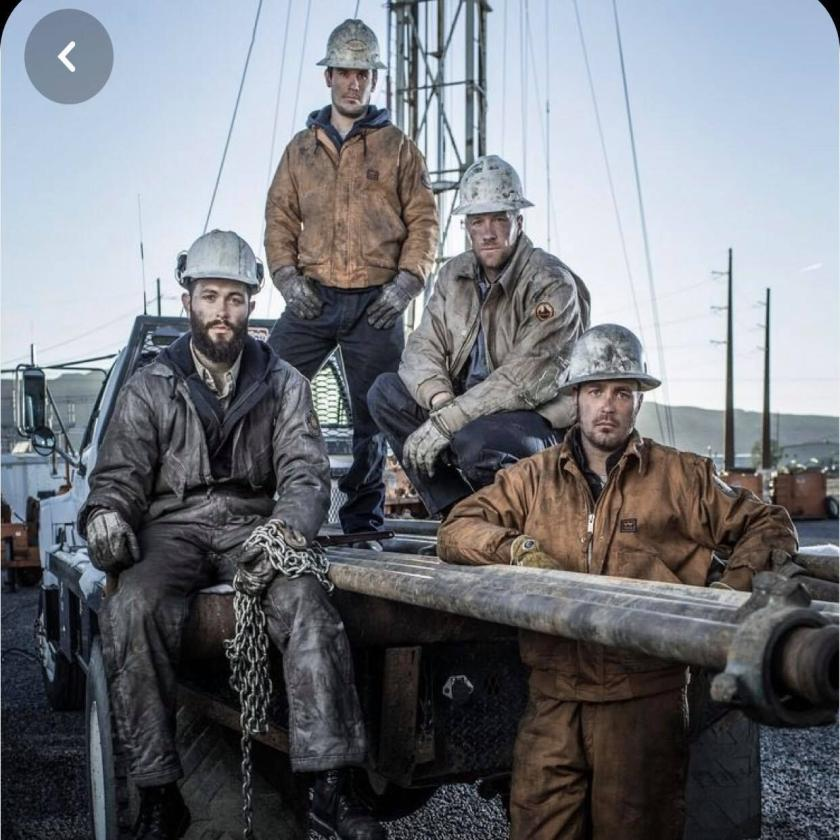Con_casco: (564, 323, 660, 471), (174, 228, 266, 358), (452, 150, 534, 284), (317, 18, 389, 132)
